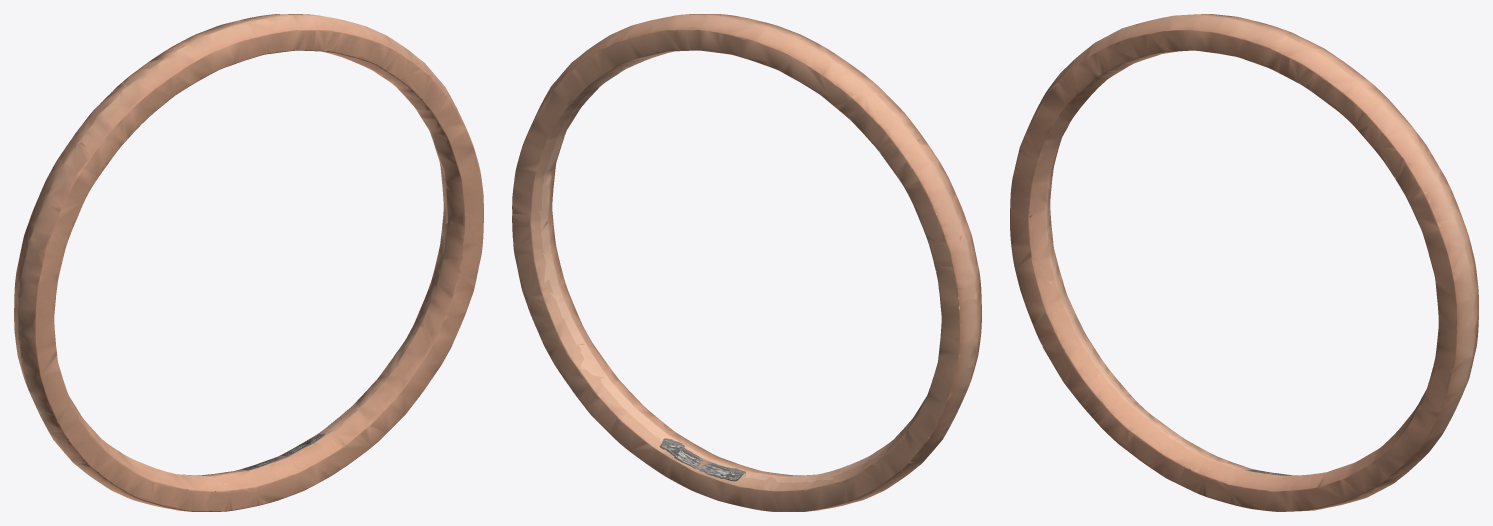
Rendered from ring_rose_gold.glb.
The picture shows the model from 3 angles, left to right: view 1: azimuth 30°, elevation 25°; view 2: azimuth 150°, elevation 25°; view 3: azimuth 330°, elevation 25°; orthographic projection.
Visible parts, largest first — view 1: Mesh_0; view 2: Mesh_0; view 3: Mesh_0.
Part boxes in pixels (x1,y1,x2,y2): Mesh_0: (14, 14, 483, 511); Mesh_0: (512, 14, 981, 511); Mesh_0: (1010, 14, 1478, 511).
Size of the model in its own units: 2.15 by 2.15 by 0.1758.
Materials: 1 (1 with a texture image).
